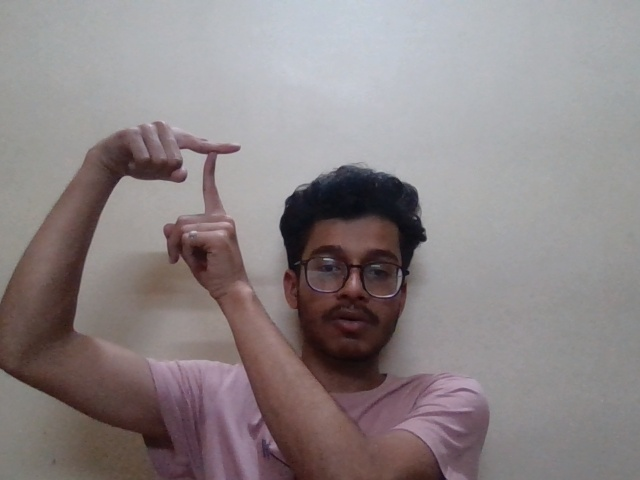T: (133, 106, 269, 272)
